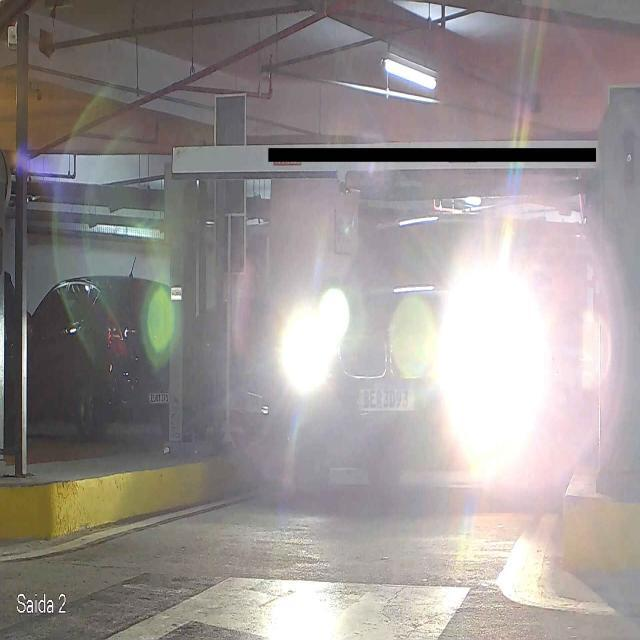mercosul_plate: (352, 380, 420, 414)
